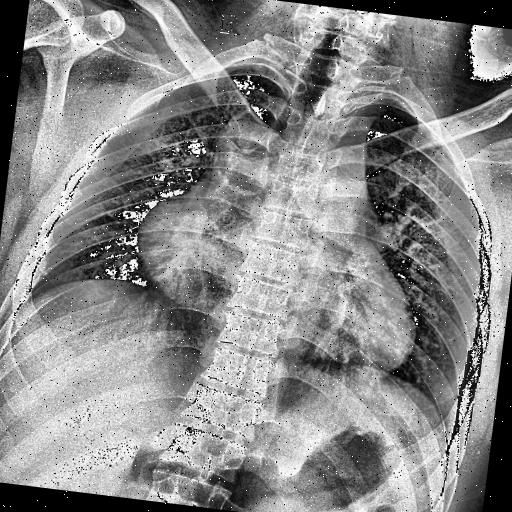3- Cardiomegaly: (110, 148, 440, 419), (110, 174, 456, 402), (120, 196, 423, 382)
9- Other lesion: (190, 99, 394, 223)
